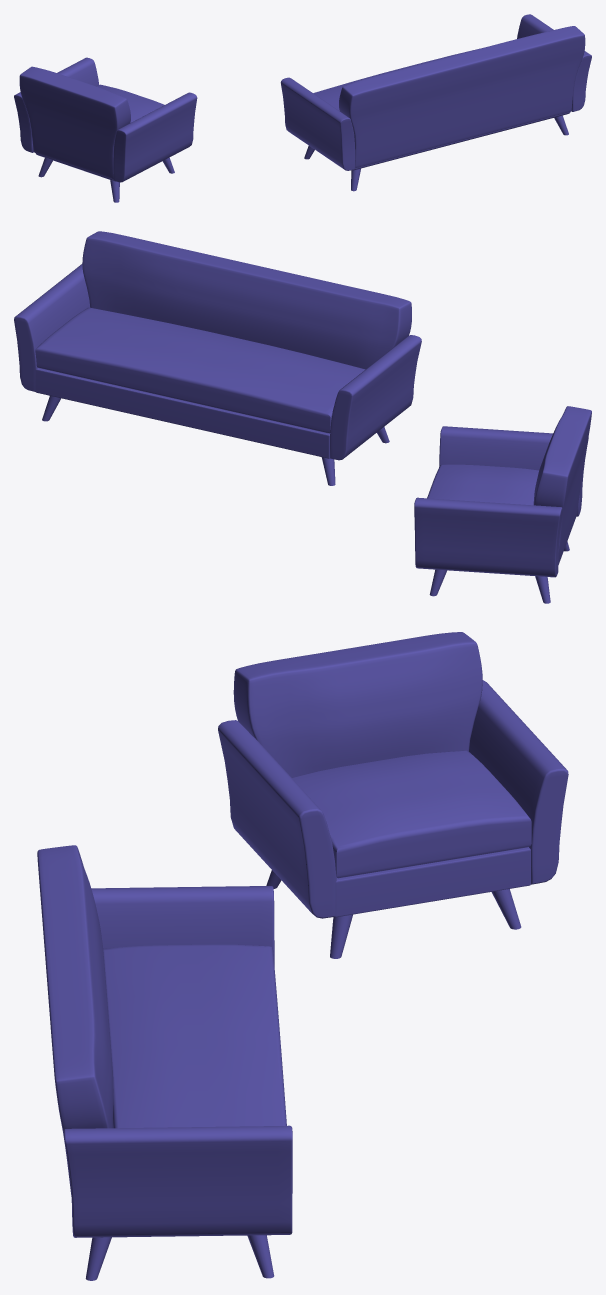
File: meko 7.fbx
3 views of the same model, one above another, from view 1: azimuth 30°, elevation 25°; view 2: azimuth 150°, elevation 25°; view 3: azimuth 270°, elevation 25° (orthographic). The views are drawn at different scales.
Visible parts, largest first — view 1: pasted__pasted__ModCouch, pasted__pasted__Mod_Chair; view 2: pasted__pasted__ModCouch, pasted__pasted__Mod_Chair; view 3: pasted__pasted__ModCouch, pasted__pasted__Mod_Chair.
Part boxes in pixels (x1,y1,x2,y2): pasted__pasted__ModCouch: (280,14,591,191); pasted__pasted__Mod_Chair: (14,57,197,202); pasted__pasted__ModCouch: (14,231,421,485); pasted__pasted__Mod_Chair: (414,406,591,603); pasted__pasted__ModCouch: (37,845,292,1280); pasted__pasted__Mod_Chair: (218,632,568,958).
Size of the model in its own units: 29.24 by 6.41 by 14.21.
